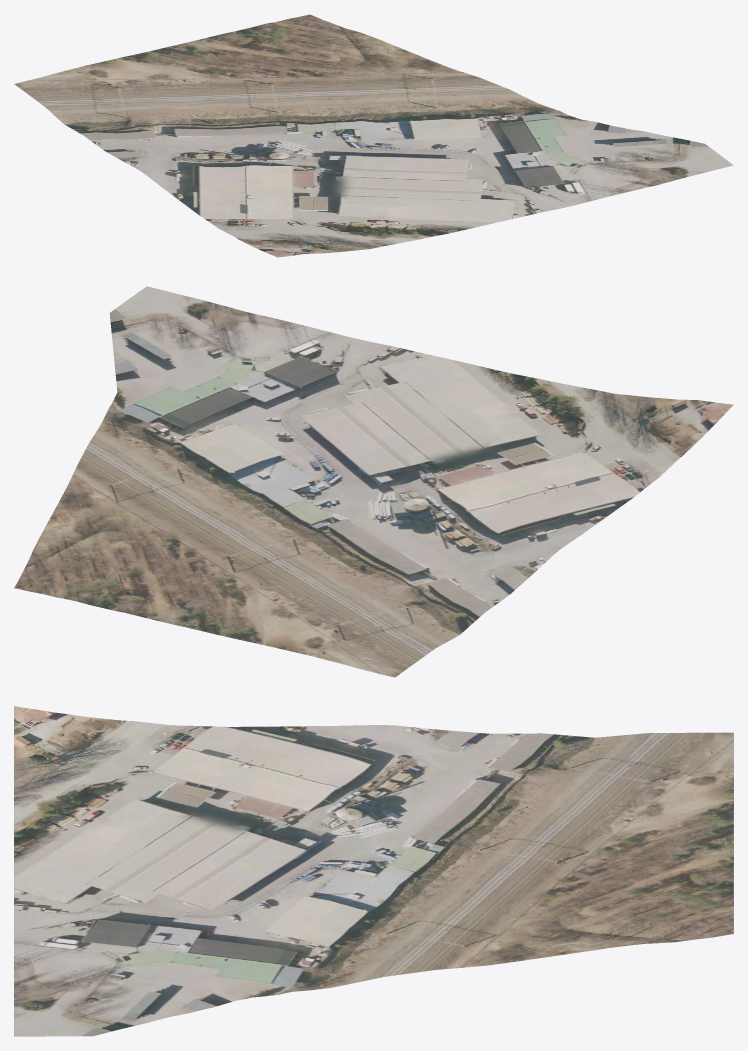
The model's file is CM_Terrain_24491892_6819589.fbx.
3 views of the same model, one above another, from view 1: azimuth 30°, elevation 25°; view 2: azimuth 150°, elevation 25°; view 3: azimuth 270°, elevation 25° (orthographic). The views are drawn at different scales.
Parts seen in each view (by area): view 1: CM_Terrain_24491892_6819589_LOD0; view 2: CM_Terrain_24491892_6819589_LOD0; view 3: CM_Terrain_24491892_6819589_LOD0.
Part boxes in pixels (x1,y1,x2,y2): CM_Terrain_24491892_6819589_LOD0: (14, 14, 733, 257); CM_Terrain_24491892_6819589_LOD0: (14, 286, 733, 677); CM_Terrain_24491892_6819589_LOD0: (14, 706, 733, 1036).
Size of what is drawn, in the model's own units: 205 by 10.27 by 205.
